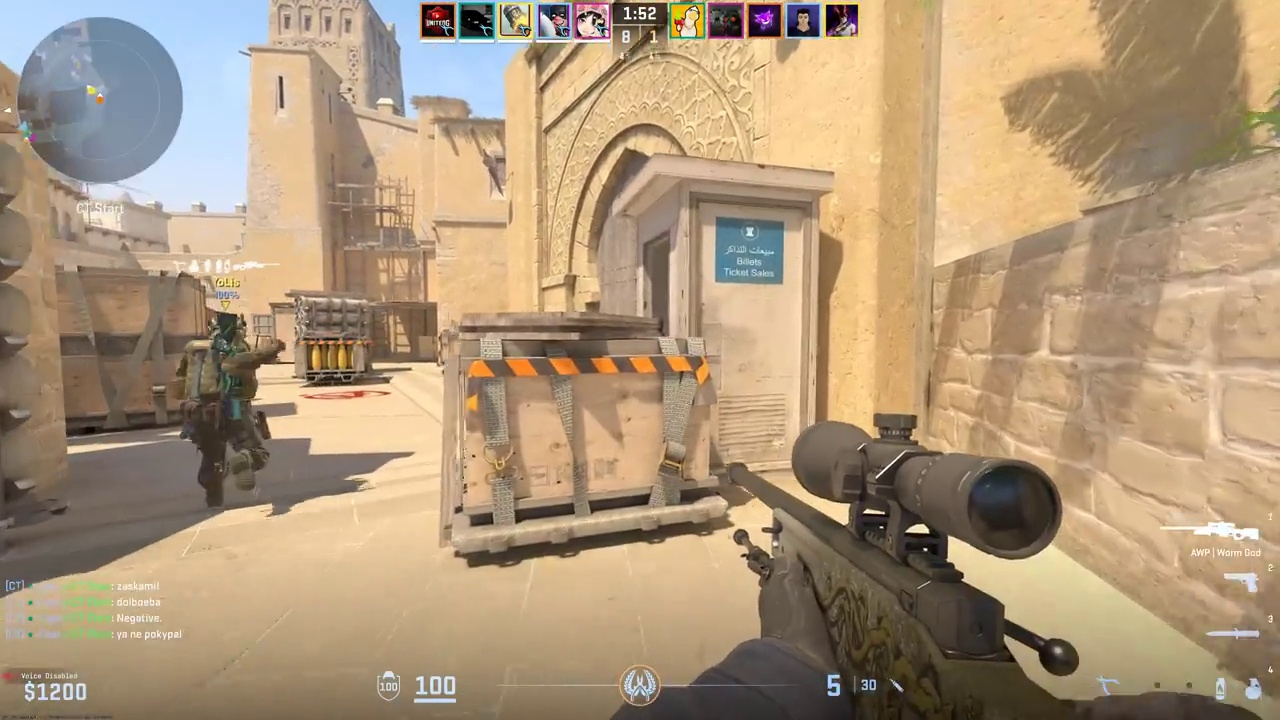CT: (181, 313, 269, 508)
